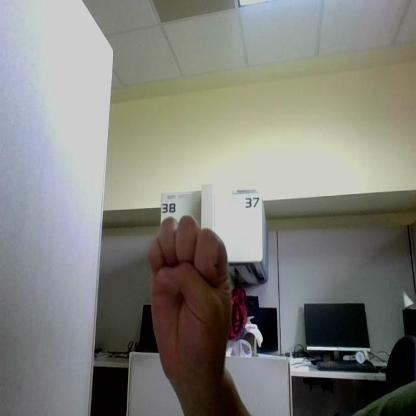S: (148, 216, 230, 372)
